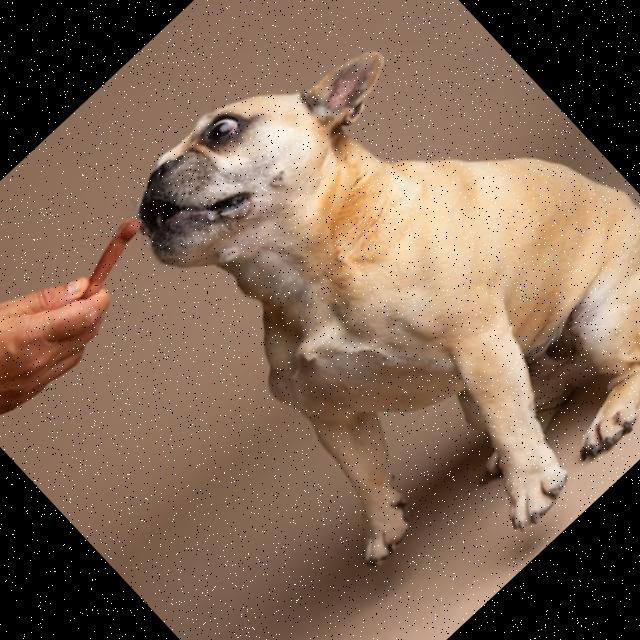Dog: (72, 0, 640, 621)
